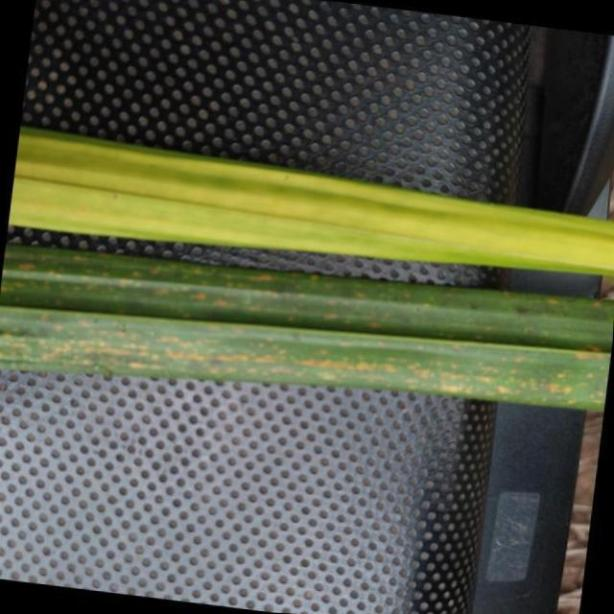nitrogen: (3, 248, 614, 418), (5, 122, 614, 283)
